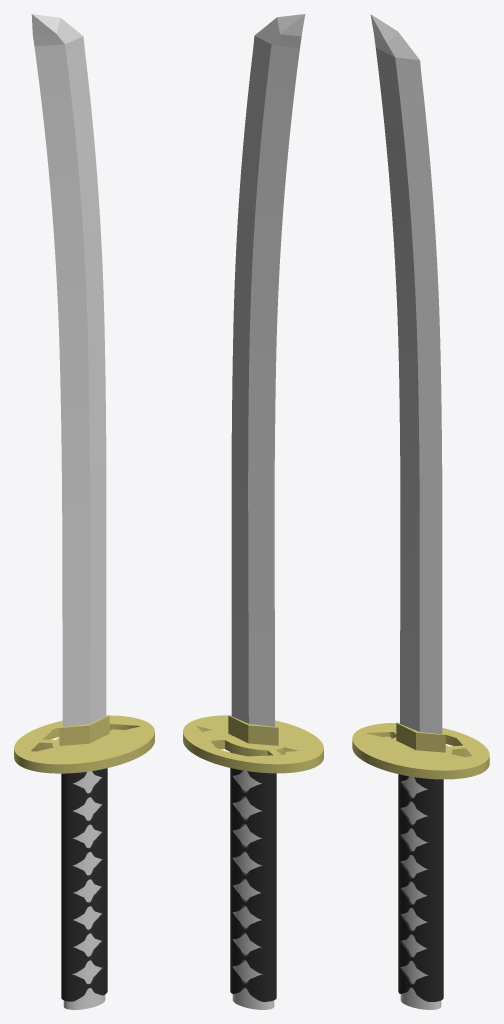
The model's file is Sword.fbx.
3 views of the same model, side by side, from view 1: azimuth 30°, elevation 25°; view 2: azimuth 150°, elevation 25°; view 3: azimuth 330°, elevation 25° (orthographic). The views are drawn at different scales.
Parts seen in each view (by area): view 1: Blade; view 2: Blade; view 3: Blade.
Part boxes in pixels (<box>): Blade: <box>14,14,154,1009</box>; Blade: <box>183,14,323,1009</box>; Blade: <box>352,14,489,1009</box>.
Bounding box in the file's own units: 60 × 437 × 40.
